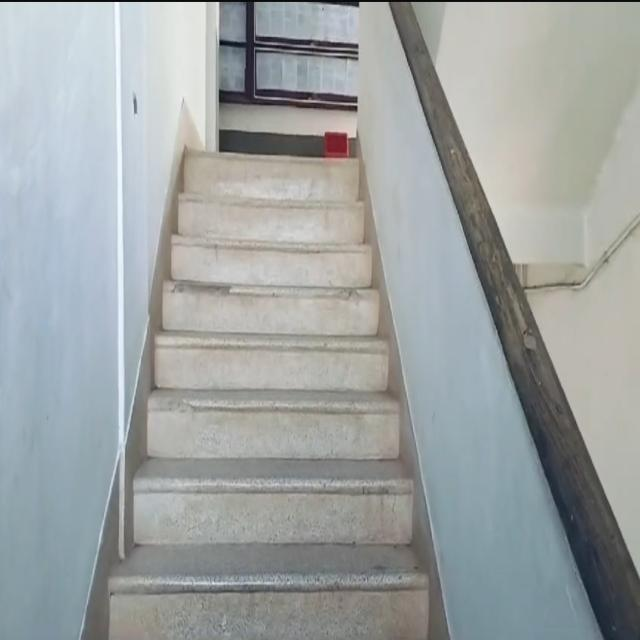stairs ahead at: (111, 148, 432, 640)
